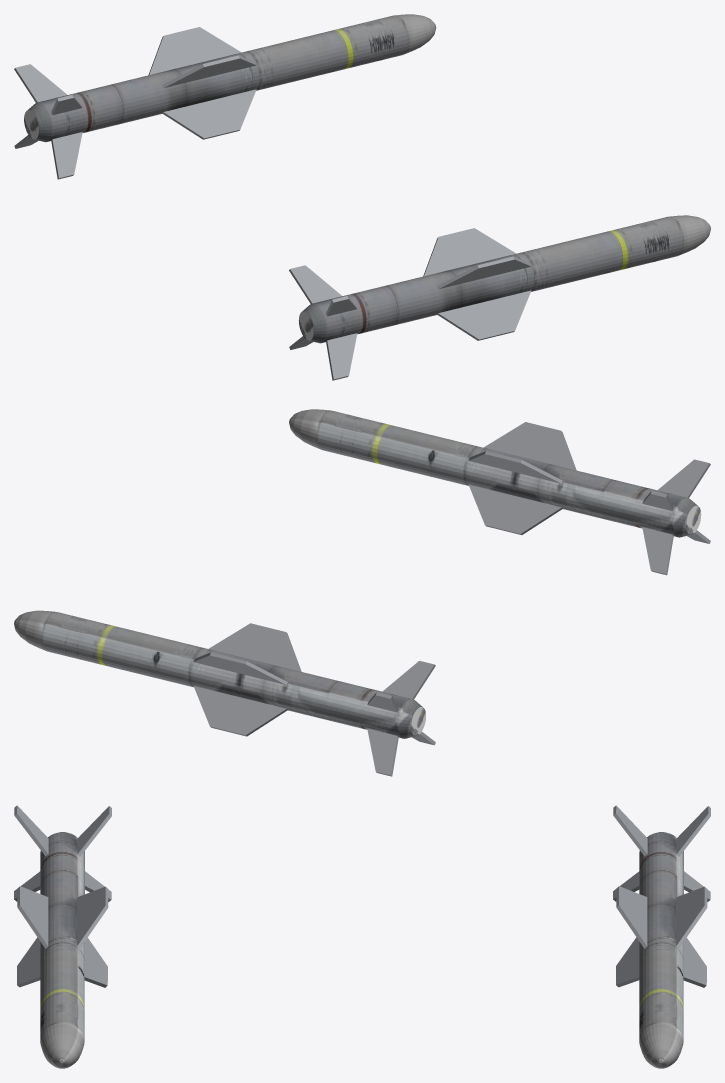
Rendered from fa18fagm8423.glb.
3 renders of one model, top to bottom at view 1: azimuth 30°, elevation 25°; view 2: azimuth 150°, elevation 25°; view 3: azimuth 270°, elevation 25°, orthographic. The views are drawn at different scales.
Visible parts, largest first — view 1: 立方体.045, 立方体.001; view 2: 立方体.045, 立方体.001; view 3: 立方体.045, 立方体.001.
Boxes of the visible parts, <box> form: 立方体.045: <box>289,215,710,380</box>; 立方体.001: <box>14,14,436,179</box>; 立方体.045: <box>289,409,710,575</box>; 立方体.001: <box>14,610,435,776</box>; 立方体.045: <box>14,805,111,1068</box>; 立方体.001: <box>613,805,710,1068</box>.
Bounding box in the file's own units: 4.59 × 0.8867 × 6.31.
3 materials, 1 textured.
